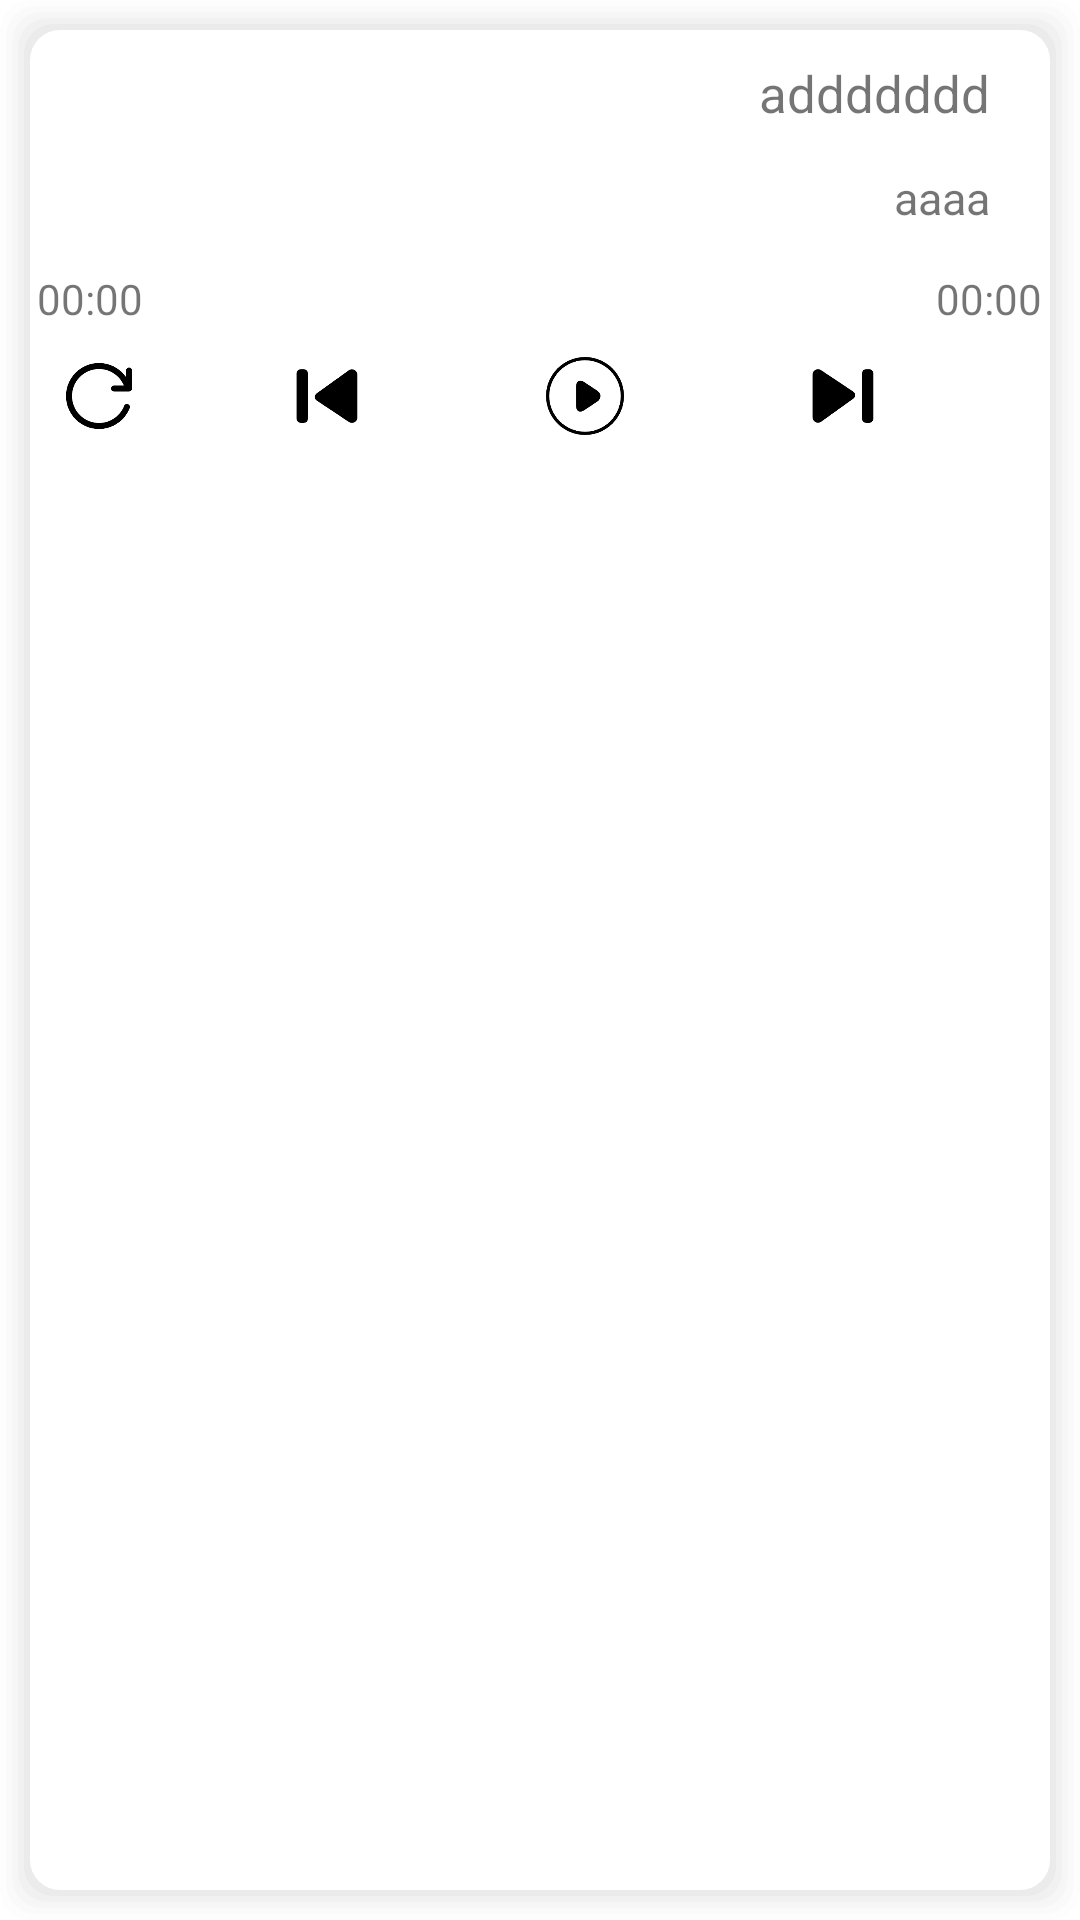

Named icons in this screenshot (1080 x 1920) and their bounding boxes, (x1, y1, x2, y2):
next: (812, 369, 874, 423)
play: (546, 357, 624, 435)
previous: (296, 369, 358, 423)
refresh: (66, 363, 132, 429)
